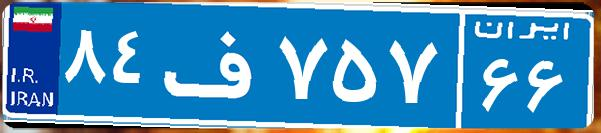4: (110, 28, 158, 105)
5: (330, 28, 385, 110)
6: (475, 38, 525, 113), (525, 38, 570, 115)
7: (385, 28, 445, 110), (273, 28, 330, 110)
8: (57, 26, 110, 107)
ف: (158, 15, 273, 115)
